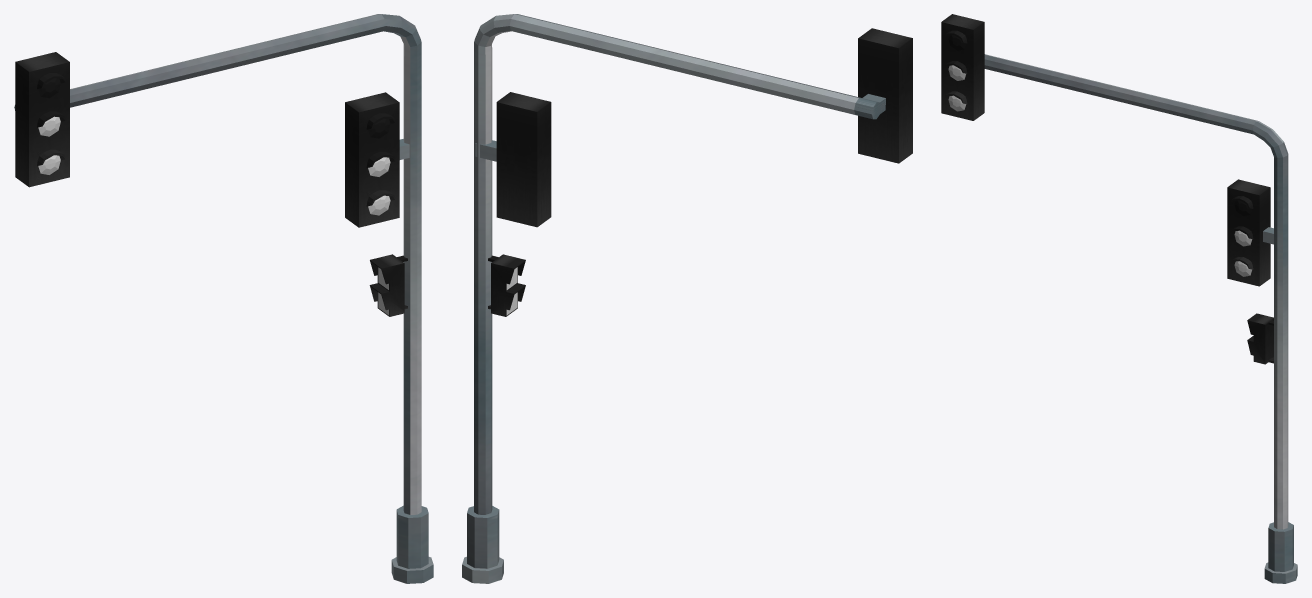
File: TRAFFIC_LIGHT_01.fbx
3 views of the same model, side by side, from view 1: azimuth 30°, elevation 25°; view 2: azimuth 150°, elevation 25°; view 3: azimuth 330°, elevation 25° (orthographic). The views are drawn at different scales.
Visible parts, largest first — view 1: TRAFFIC_LIGHT_01; view 2: TRAFFIC_LIGHT_01; view 3: TRAFFIC_LIGHT_01.
Part boxes in pixels (bbox=[...]): TRAFFIC_LIGHT_01: bbox=[14, 14, 433, 583]; TRAFFIC_LIGHT_01: bbox=[462, 14, 912, 583]; TRAFFIC_LIGHT_01: bbox=[941, 14, 1297, 583].
Bounding box in the file's own units: 274 × 381 × 43.02.
